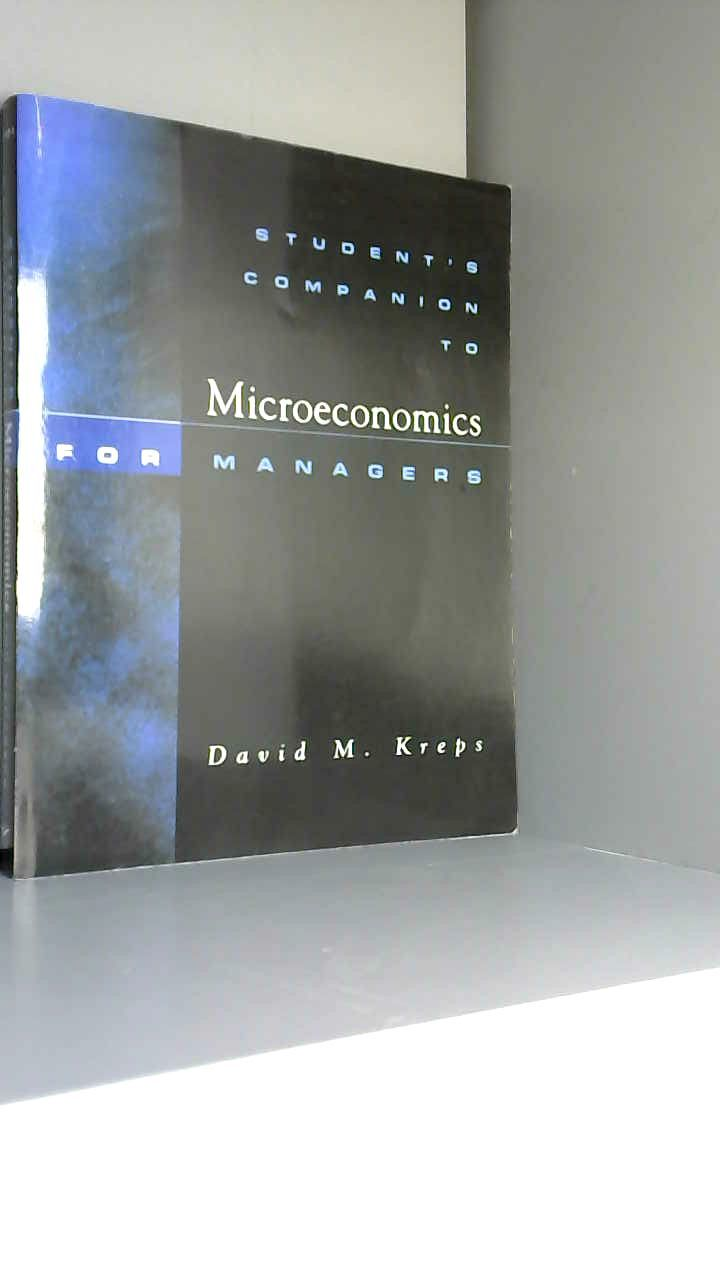book: (0, 74, 555, 926)
